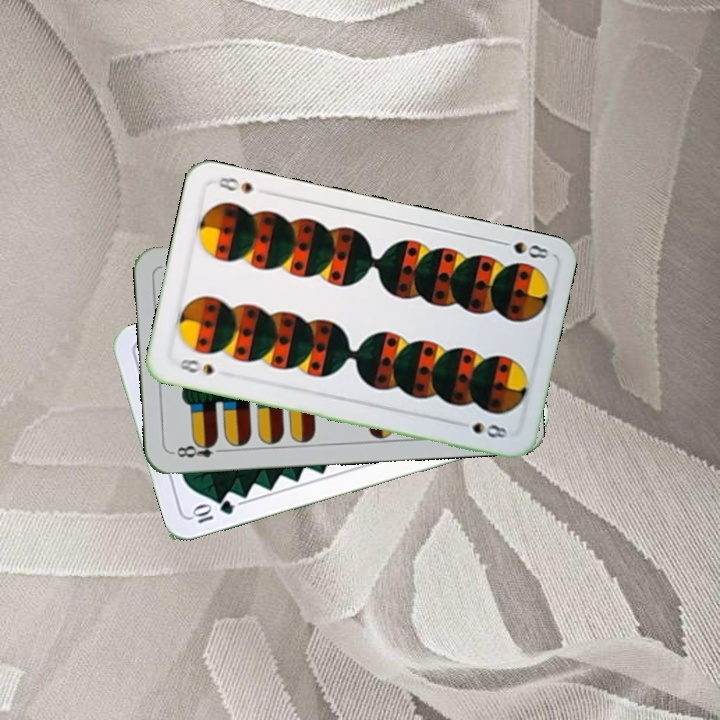E8: (169, 436, 228, 460)
G10: (188, 496, 237, 526)
S8: (493, 235, 553, 262), (175, 354, 216, 378)
